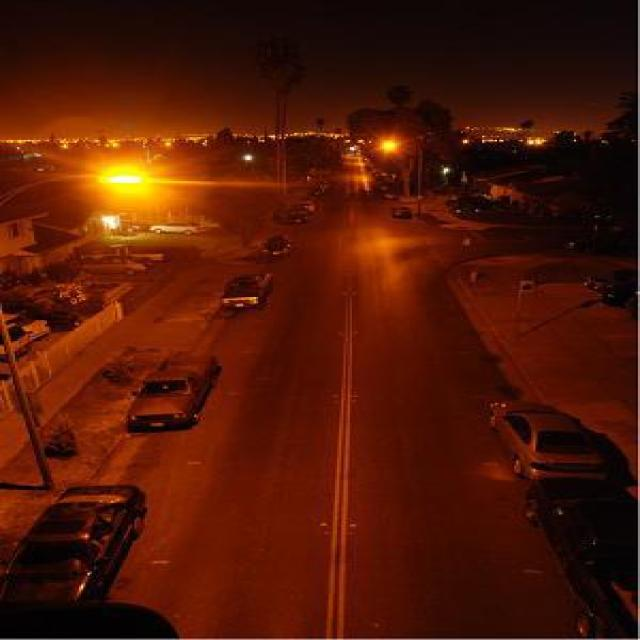other: (57, 129, 179, 222), (361, 130, 413, 160)
